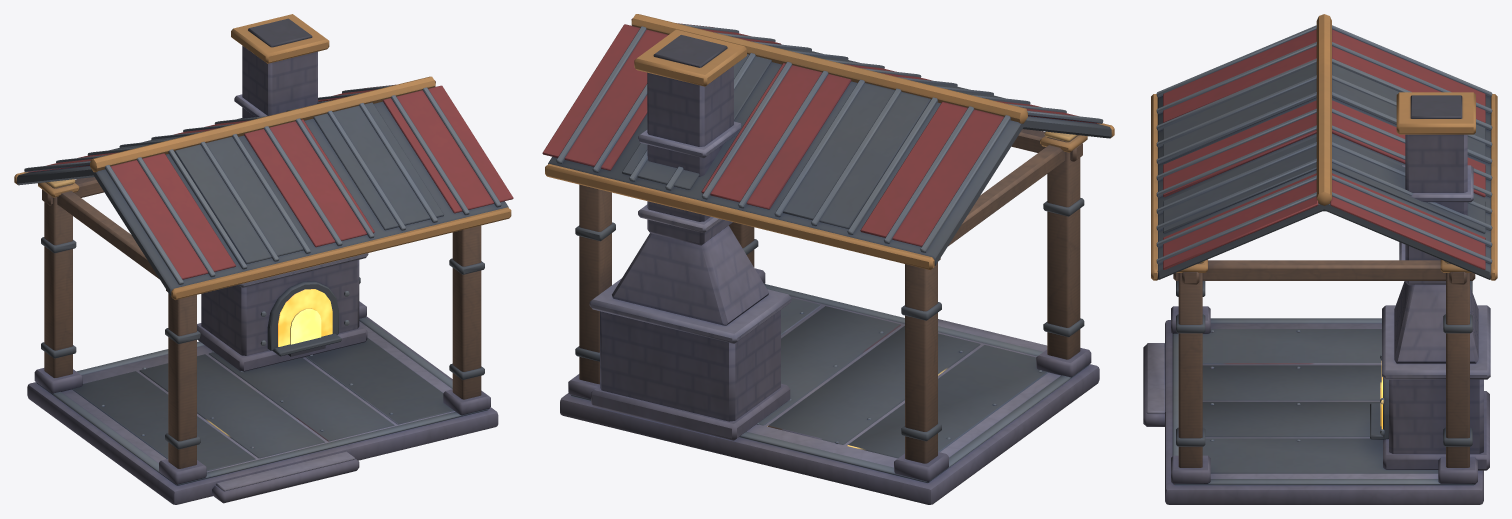
File: EF_A02_ForgeShelter.fbx
3 renders of one model, left to right at view 1: azimuth 30°, elevation 25°; view 2: azimuth 150°, elevation 25°; view 3: azimuth 270°, elevation 25°, orthographic. The views are drawn at different scales.
Parts seen in each view (by area): view 1: Roof_LOD0, Floor_LOD0, Forge_LOD0, Chimney_LOD0, Post_03, Post_02, Post_01; view 2: Roof_LOD0, Floor_LOD0, Chimney_LOD0, Forge_LOD0, Post_01, Post_03, Post_04, Post_02; view 3: Roof_LOD0, Floor_LOD0, Chimney_LOD0, Forge_LOD0, Post_02, Post_04, Post_01.
Part boxes in pixels (x1,y1,x2,y2): Roof_LOD0: (14, 76, 513, 299); Floor_LOD0: (27, 316, 498, 504); Forge_LOD0: (197, 253, 368, 371); Chimney_LOD0: (231, 14, 329, 118); Post_03: (34, 179, 82, 393); Post_02: (443, 225, 490, 415); Post_01: (159, 293, 206, 484); Roof_LOD0: (542, 14, 1114, 270); Floor_LOD0: (560, 284, 1099, 504); Chimney_LOD0: (612, 29, 768, 325); Forge_LOD0: (589, 278, 791, 440); Post_01: (1036, 131, 1091, 377); Post_03: (894, 262, 948, 482); Post_04: (568, 184, 615, 399); Post_02: (729, 222, 765, 283); Roof_LOD0: (1151, 14, 1497, 284); Floor_LOD0: (1143, 318, 1483, 504); Chimney_LOD0: (1394, 92, 1478, 363); Forge_LOD0: (1370, 305, 1490, 470); Post_02: (1171, 259, 1210, 484); Post_04: (1438, 259, 1477, 483); Post_01: (1171, 281, 1210, 333).
Size of what is drawn, in the model's own units: 5.03 by 4.5 by 4.11.
